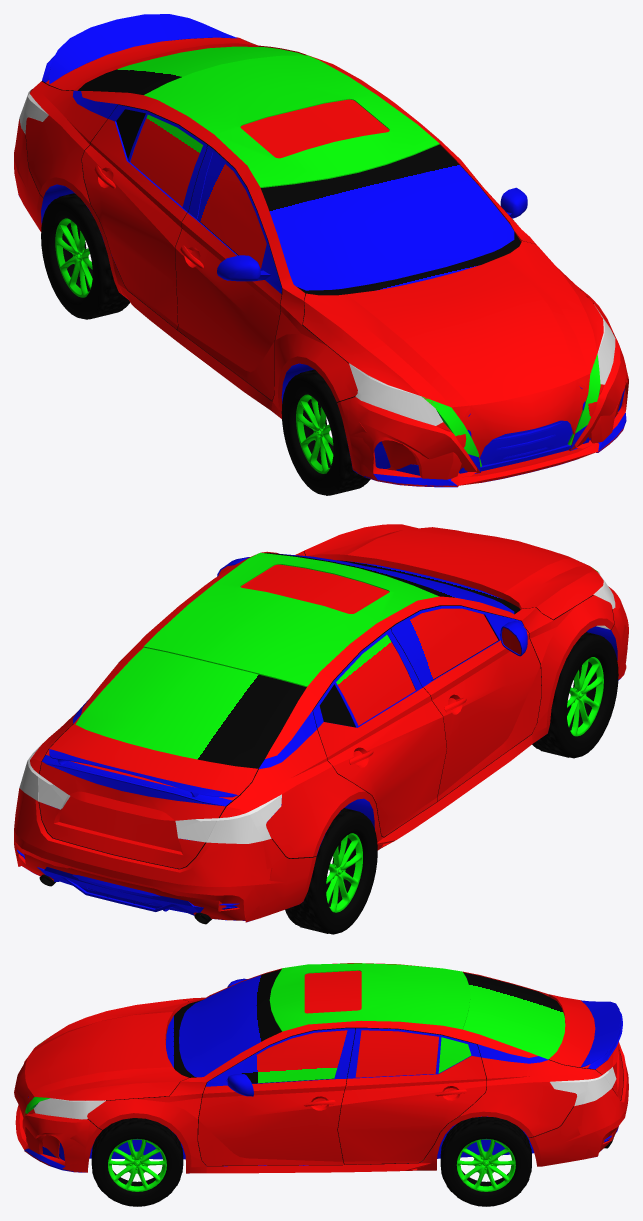
File: sedan-lod0.glb
3 views of the same model, one above another, from view 1: azimuth 30°, elevation 25°; view 2: azimuth 150°, elevation 25°; view 3: azimuth 270°, elevation 25° (orthographic). The views are drawn at different scales.
Visible parts, largest first — view 1: body, glass_a, door_r_rear, door_r_front, bumper_front_a, bumper_front_b, Wheel.002, Wheel.003, bumper_front_c, spoiler_b, glass_door_r, glass_c (+2 smaller); view 2: body, glass_c, door_r_rear, door_r_front, bumper_rear_a, Wheel.002, Wheel.003, glass_door_r, bumper_rear_c, spoiler_c, bumper_rear_b, skirt_c (+3 smaller); view 3: body, door_l_rear, door_l_front, glass_a, Wheel.001, Wheel, glass_c, glass_door_l, bumper_rear_a, bumper_front_a, skirt_c, bumper_front_b (+4 smaller).
Part boxes in pixels (<box>): body: <box>19,37,626,487</box>; glass_a: <box>260,144,514,290</box>; door_r_rear: <box>81,104,207,329</box>; door_r_front: <box>175,145,282,400</box>; bumper_front_a: <box>337,336,628,486</box>; bumper_front_b: <box>349,364,625,486</box>; Wheel.002: <box>41,193,129,319</box>; Wheel.003: <box>281,369,370,495</box>; bumper_front_c: <box>338,334,628,486</box>; spoiler_b: <box>49,14,237,84</box>; glass_door_r: <box>197,153,266,268</box>; glass_c: <box>77,46,304,94</box>; body: <box>19,524,620,924</box>; glass_c: <box>75,647,306,768</box>; door_r_rear: <box>312,628,446,836</box>; door_r_front: <box>390,605,541,801</box>; bumper_rear_a: <box>14,788,316,922</box>; Wheel.002: <box>285,808,377,934</box>; Wheel.003: <box>532,632,618,758</box>; glass_door_r: <box>397,608,498,680</box>; bumper_rear_c: <box>17,789,309,922</box>; spoiler_c: <box>42,755,232,806</box>; bumper_rear_b: <box>14,842,269,920</box>; skirt_c: <box>377,734,532,850</box>; body: <box>25,963,623,1173</box>; door_l_rear: <box>337,1027,486,1164</box>; door_l_front: <box>197,1027,355,1165</box>; glass_a: <box>179,969,281,1077</box>; Wheel.001: <box>440,1116,531,1206</box>; Wheel: <box>91,1118,183,1206</box>; glass_c: <box>463,972,565,1059</box>; glass_door_l: <box>241,1030,347,1083</box>; bumper_rear_a: <box>529,1042,628,1166</box>; bumper_front_a: <box>22,1040,101,1172</box>; skirt_c: <box>206,1163,431,1173</box>; bumper_front_b: <box>14,1058,87,1172</box>.
Size of the model in its own units: 2.05 by 1.51 by 4.94.
8 materials, 5 textured.
